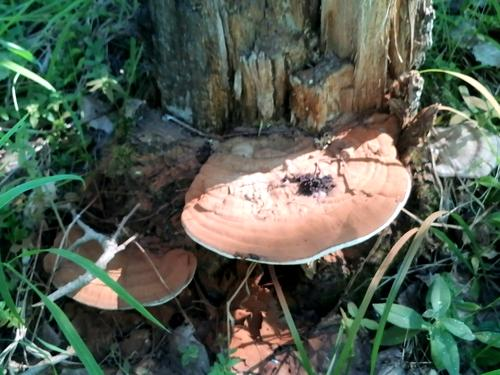Ganoderma - Fruit Body: (176, 119, 417, 271), (41, 218, 177, 342)
